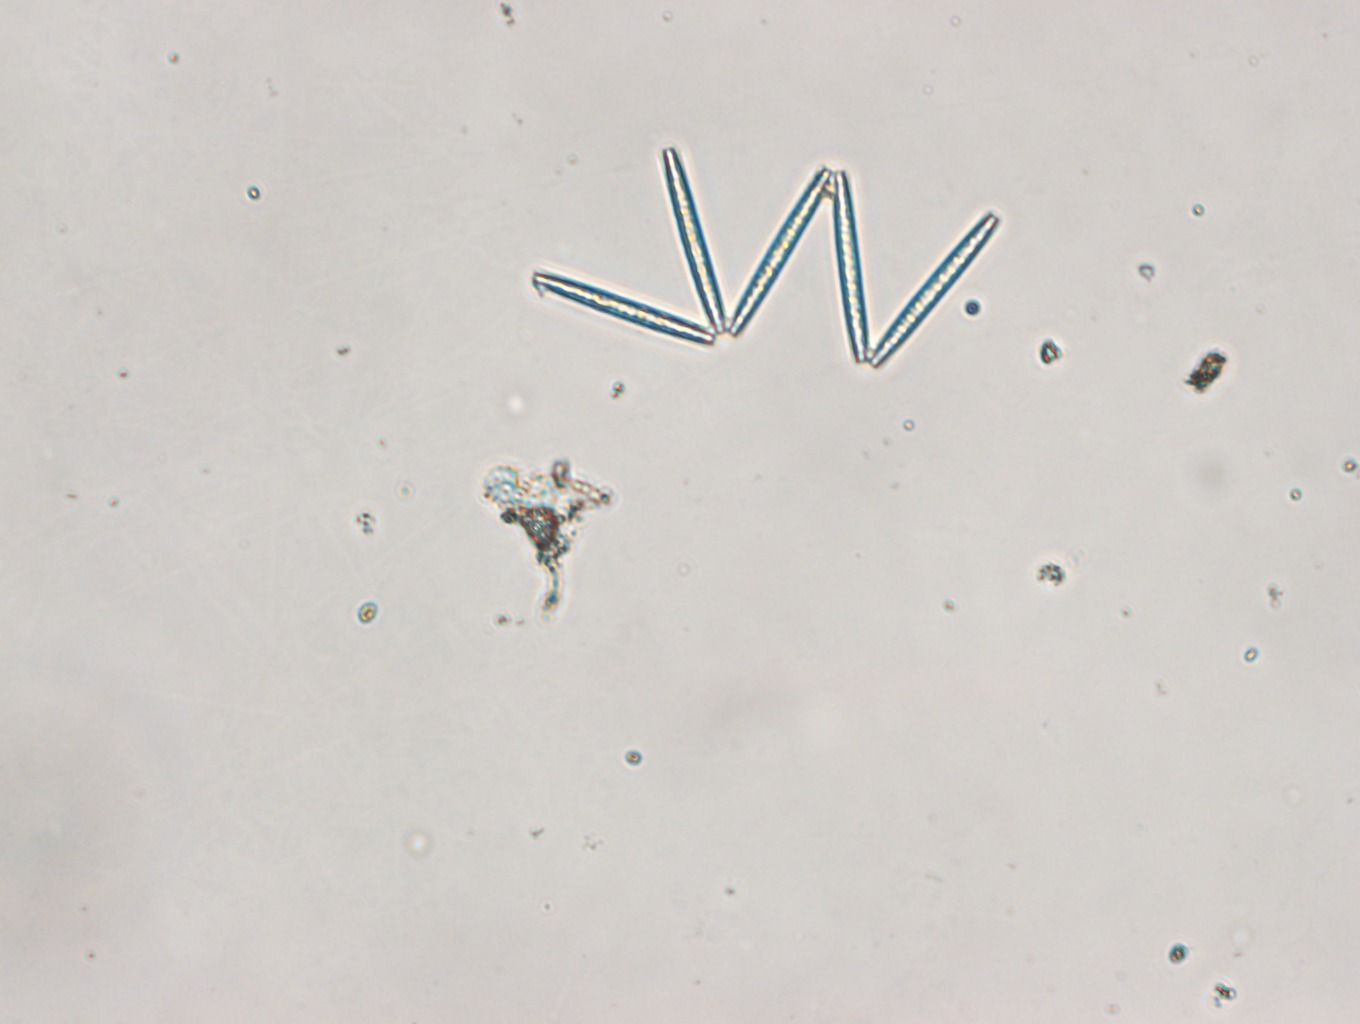thalassionema nitzschioides: (531, 145, 1003, 368)
